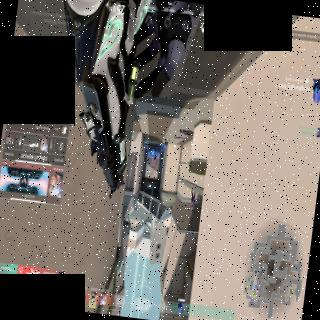ENEMY-BODY: (190, 190, 197, 211), (153, 154, 157, 166)
ENEMY-HEAD: (192, 207, 194, 210), (154, 163, 155, 166)
